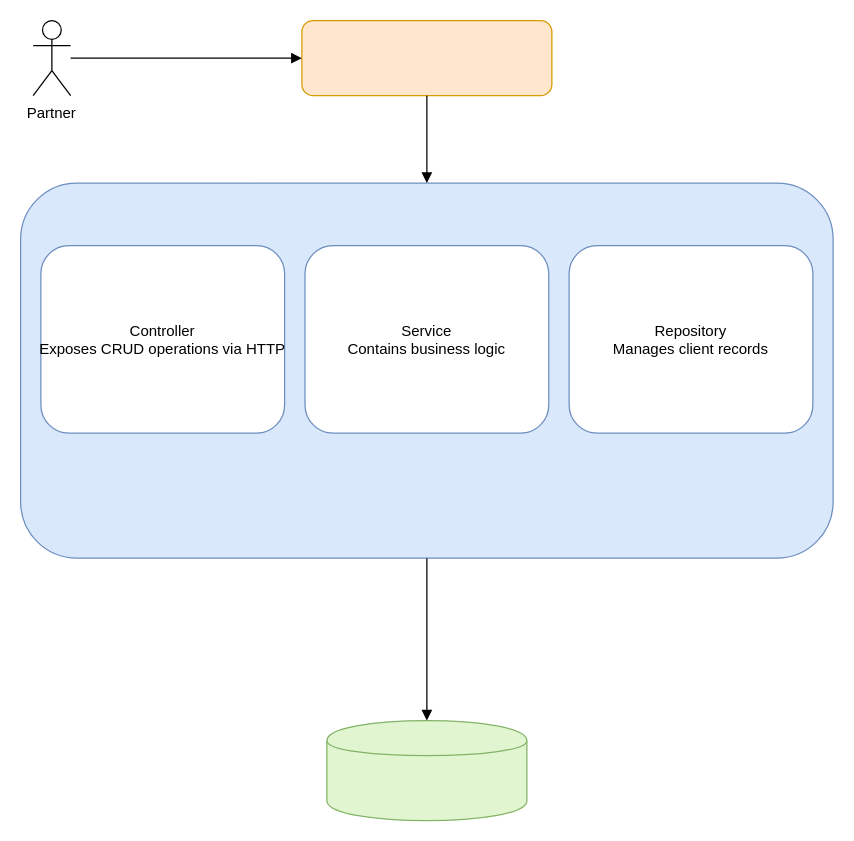
This 854x841 diagram has some shape labels left out. The centre of each missing label's shape, as x and y in pixels:
"Database Stores client data (e.g. SQL Server)" goes at point (426, 770).
"Public API System for Customers Provides access to public client data." goes at point (426, 57).
